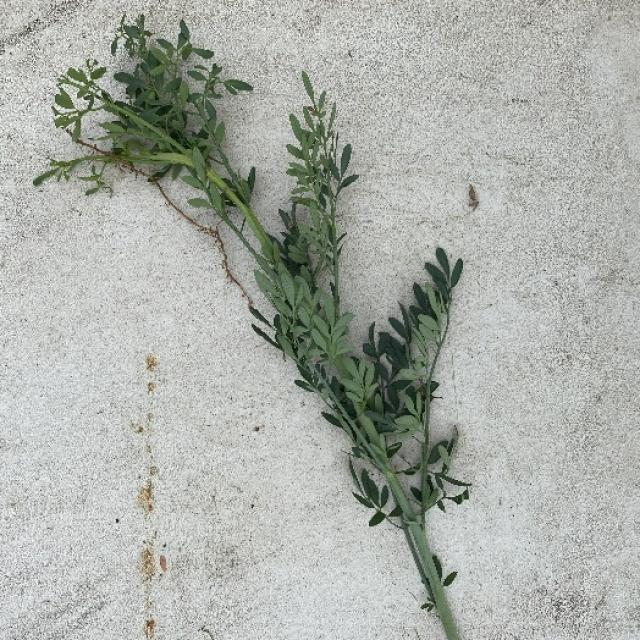organik: (65, 34, 490, 640)
